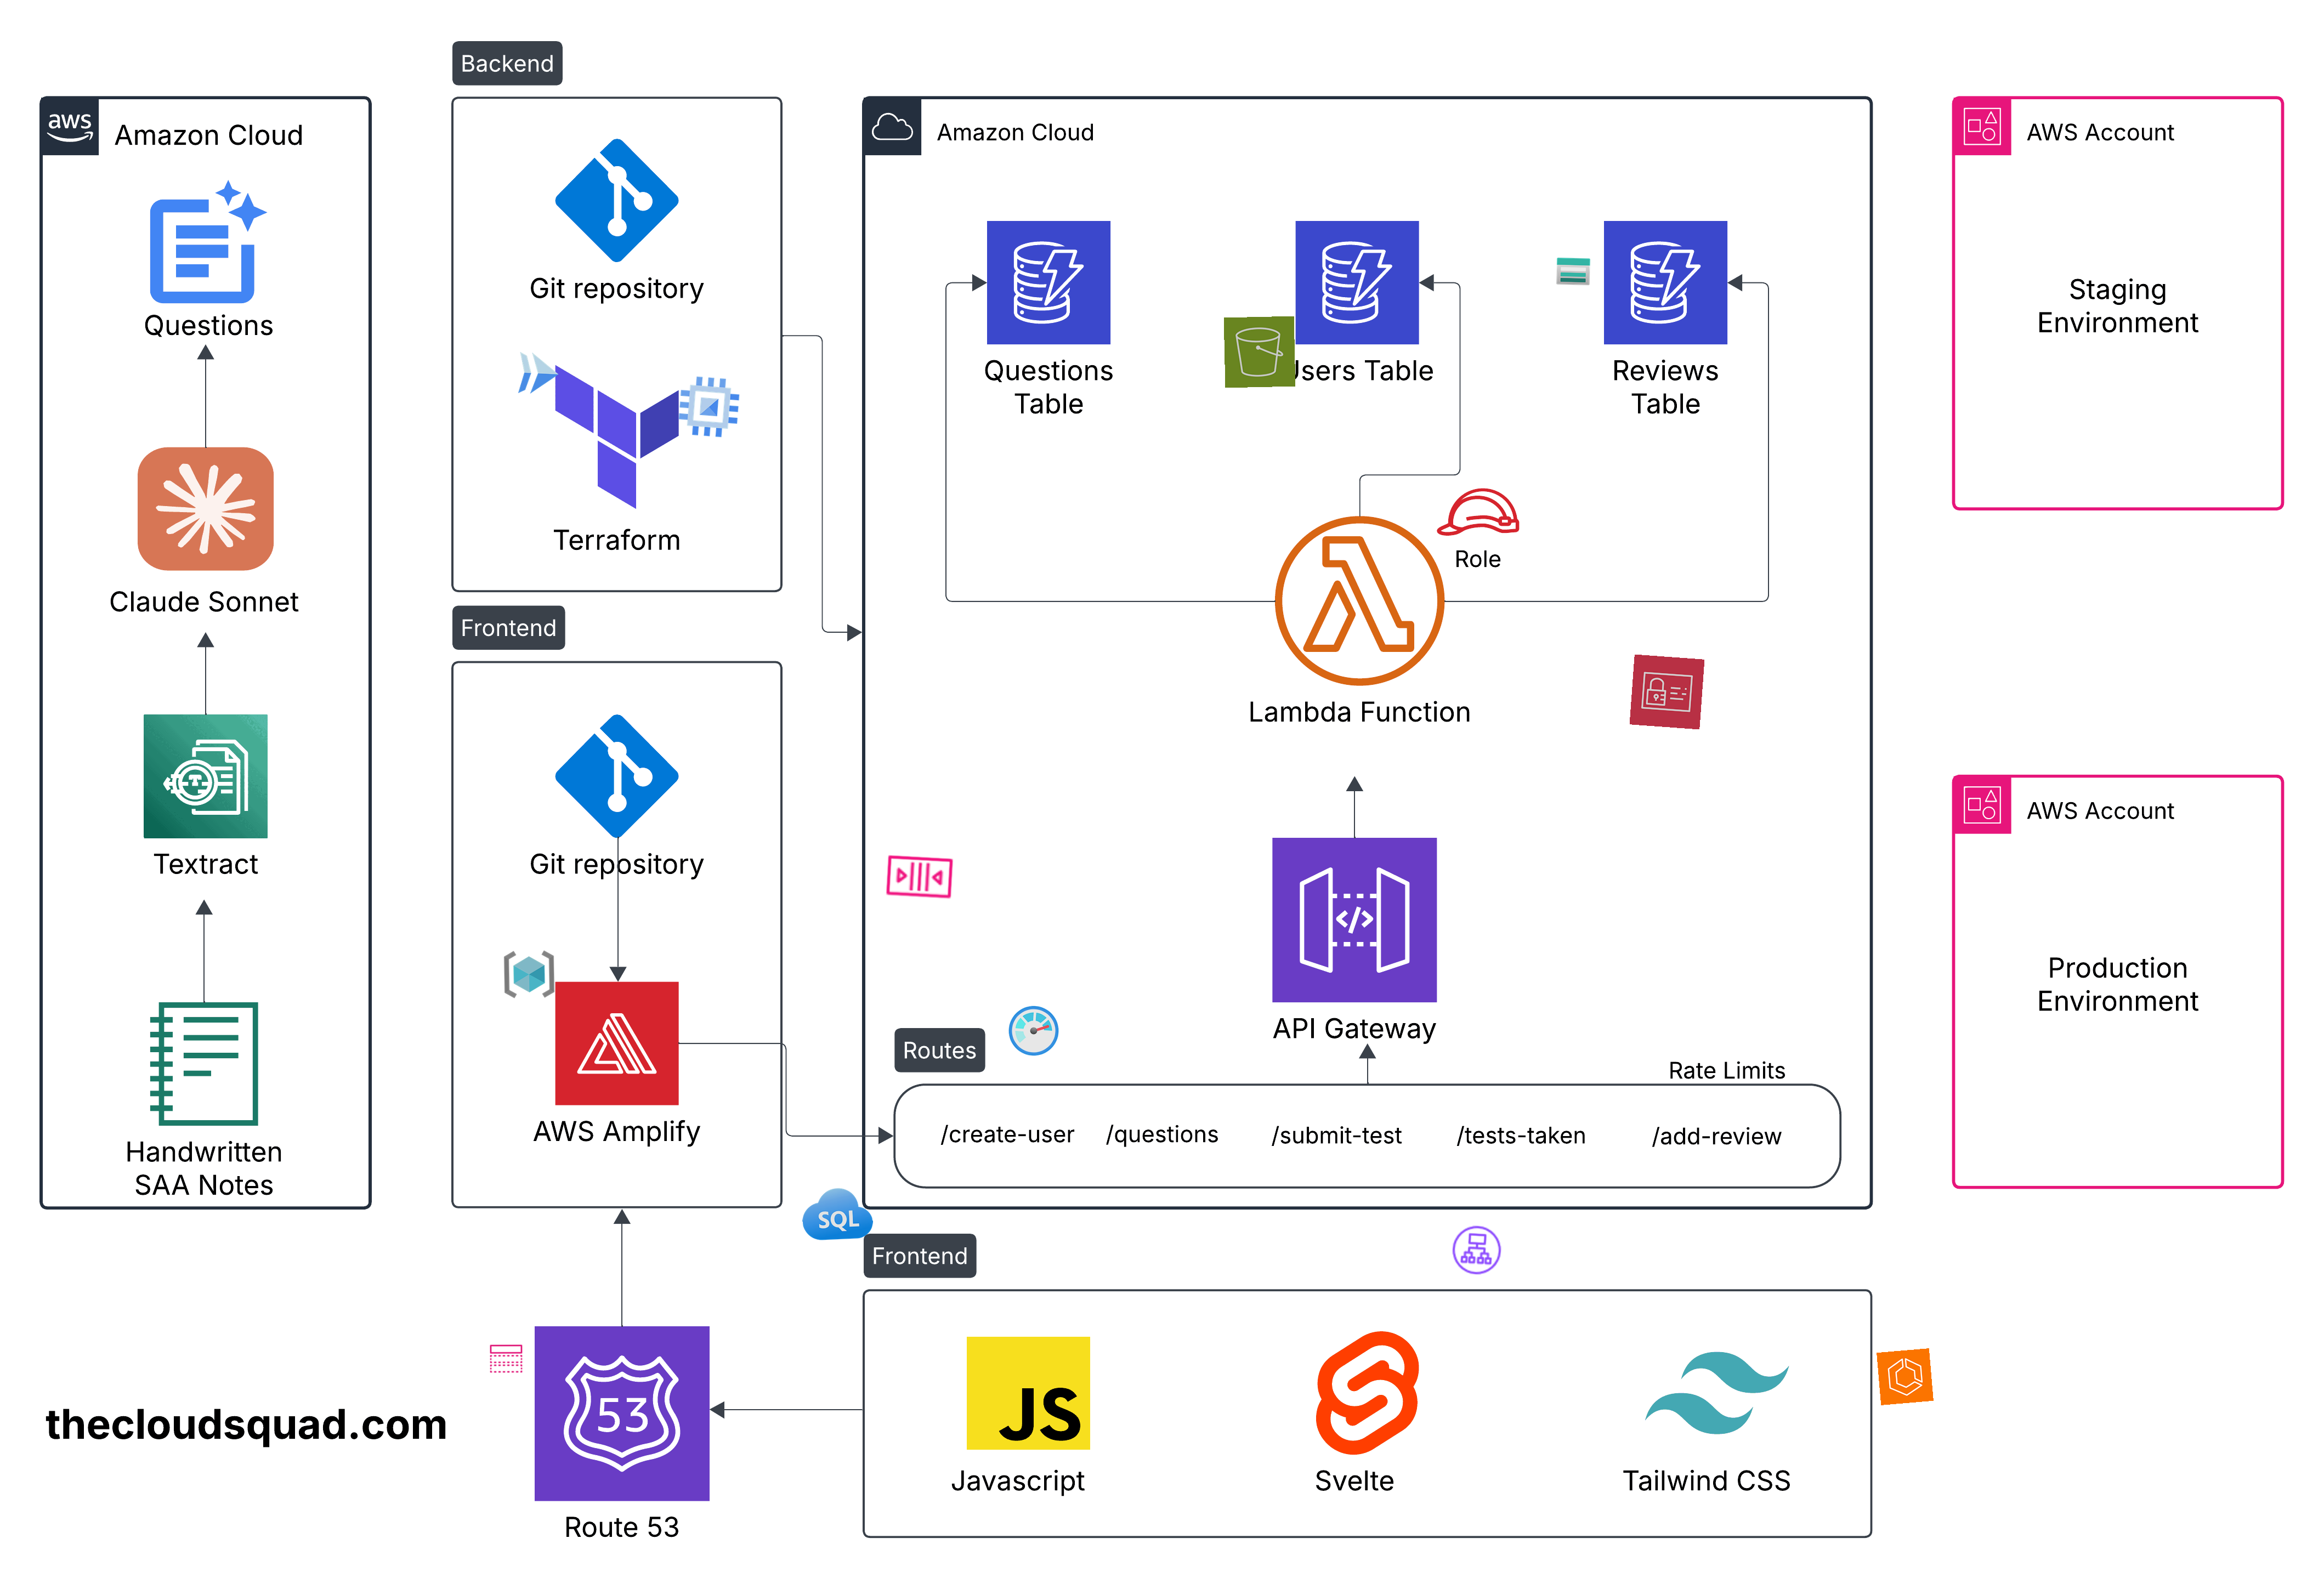aws_amazon_elastic_container_service: (1877, 1349, 1933, 1405)
aws_amazon_simple_storage_service: (1224, 315, 1296, 387)
aws_elastic_load_balancing_application_load_balancer: (1449, 1222, 1505, 1279)
aws_identity_and_access_management: (1629, 653, 1704, 729)
aws_simple_notification_service_topic: (488, 1340, 525, 1377)
aws_simple_queue_service_queue: (882, 838, 958, 914)
azure_monitor: (1005, 1002, 1062, 1058)
azure_resource_groups: (502, 948, 556, 1000)
azure_sql: (801, 1178, 873, 1252)
azure_storage_accounts: (1555, 254, 1592, 289)
gcp_cloud_run: (511, 345, 565, 402)
gcp_compute_engine: (671, 370, 746, 444)
